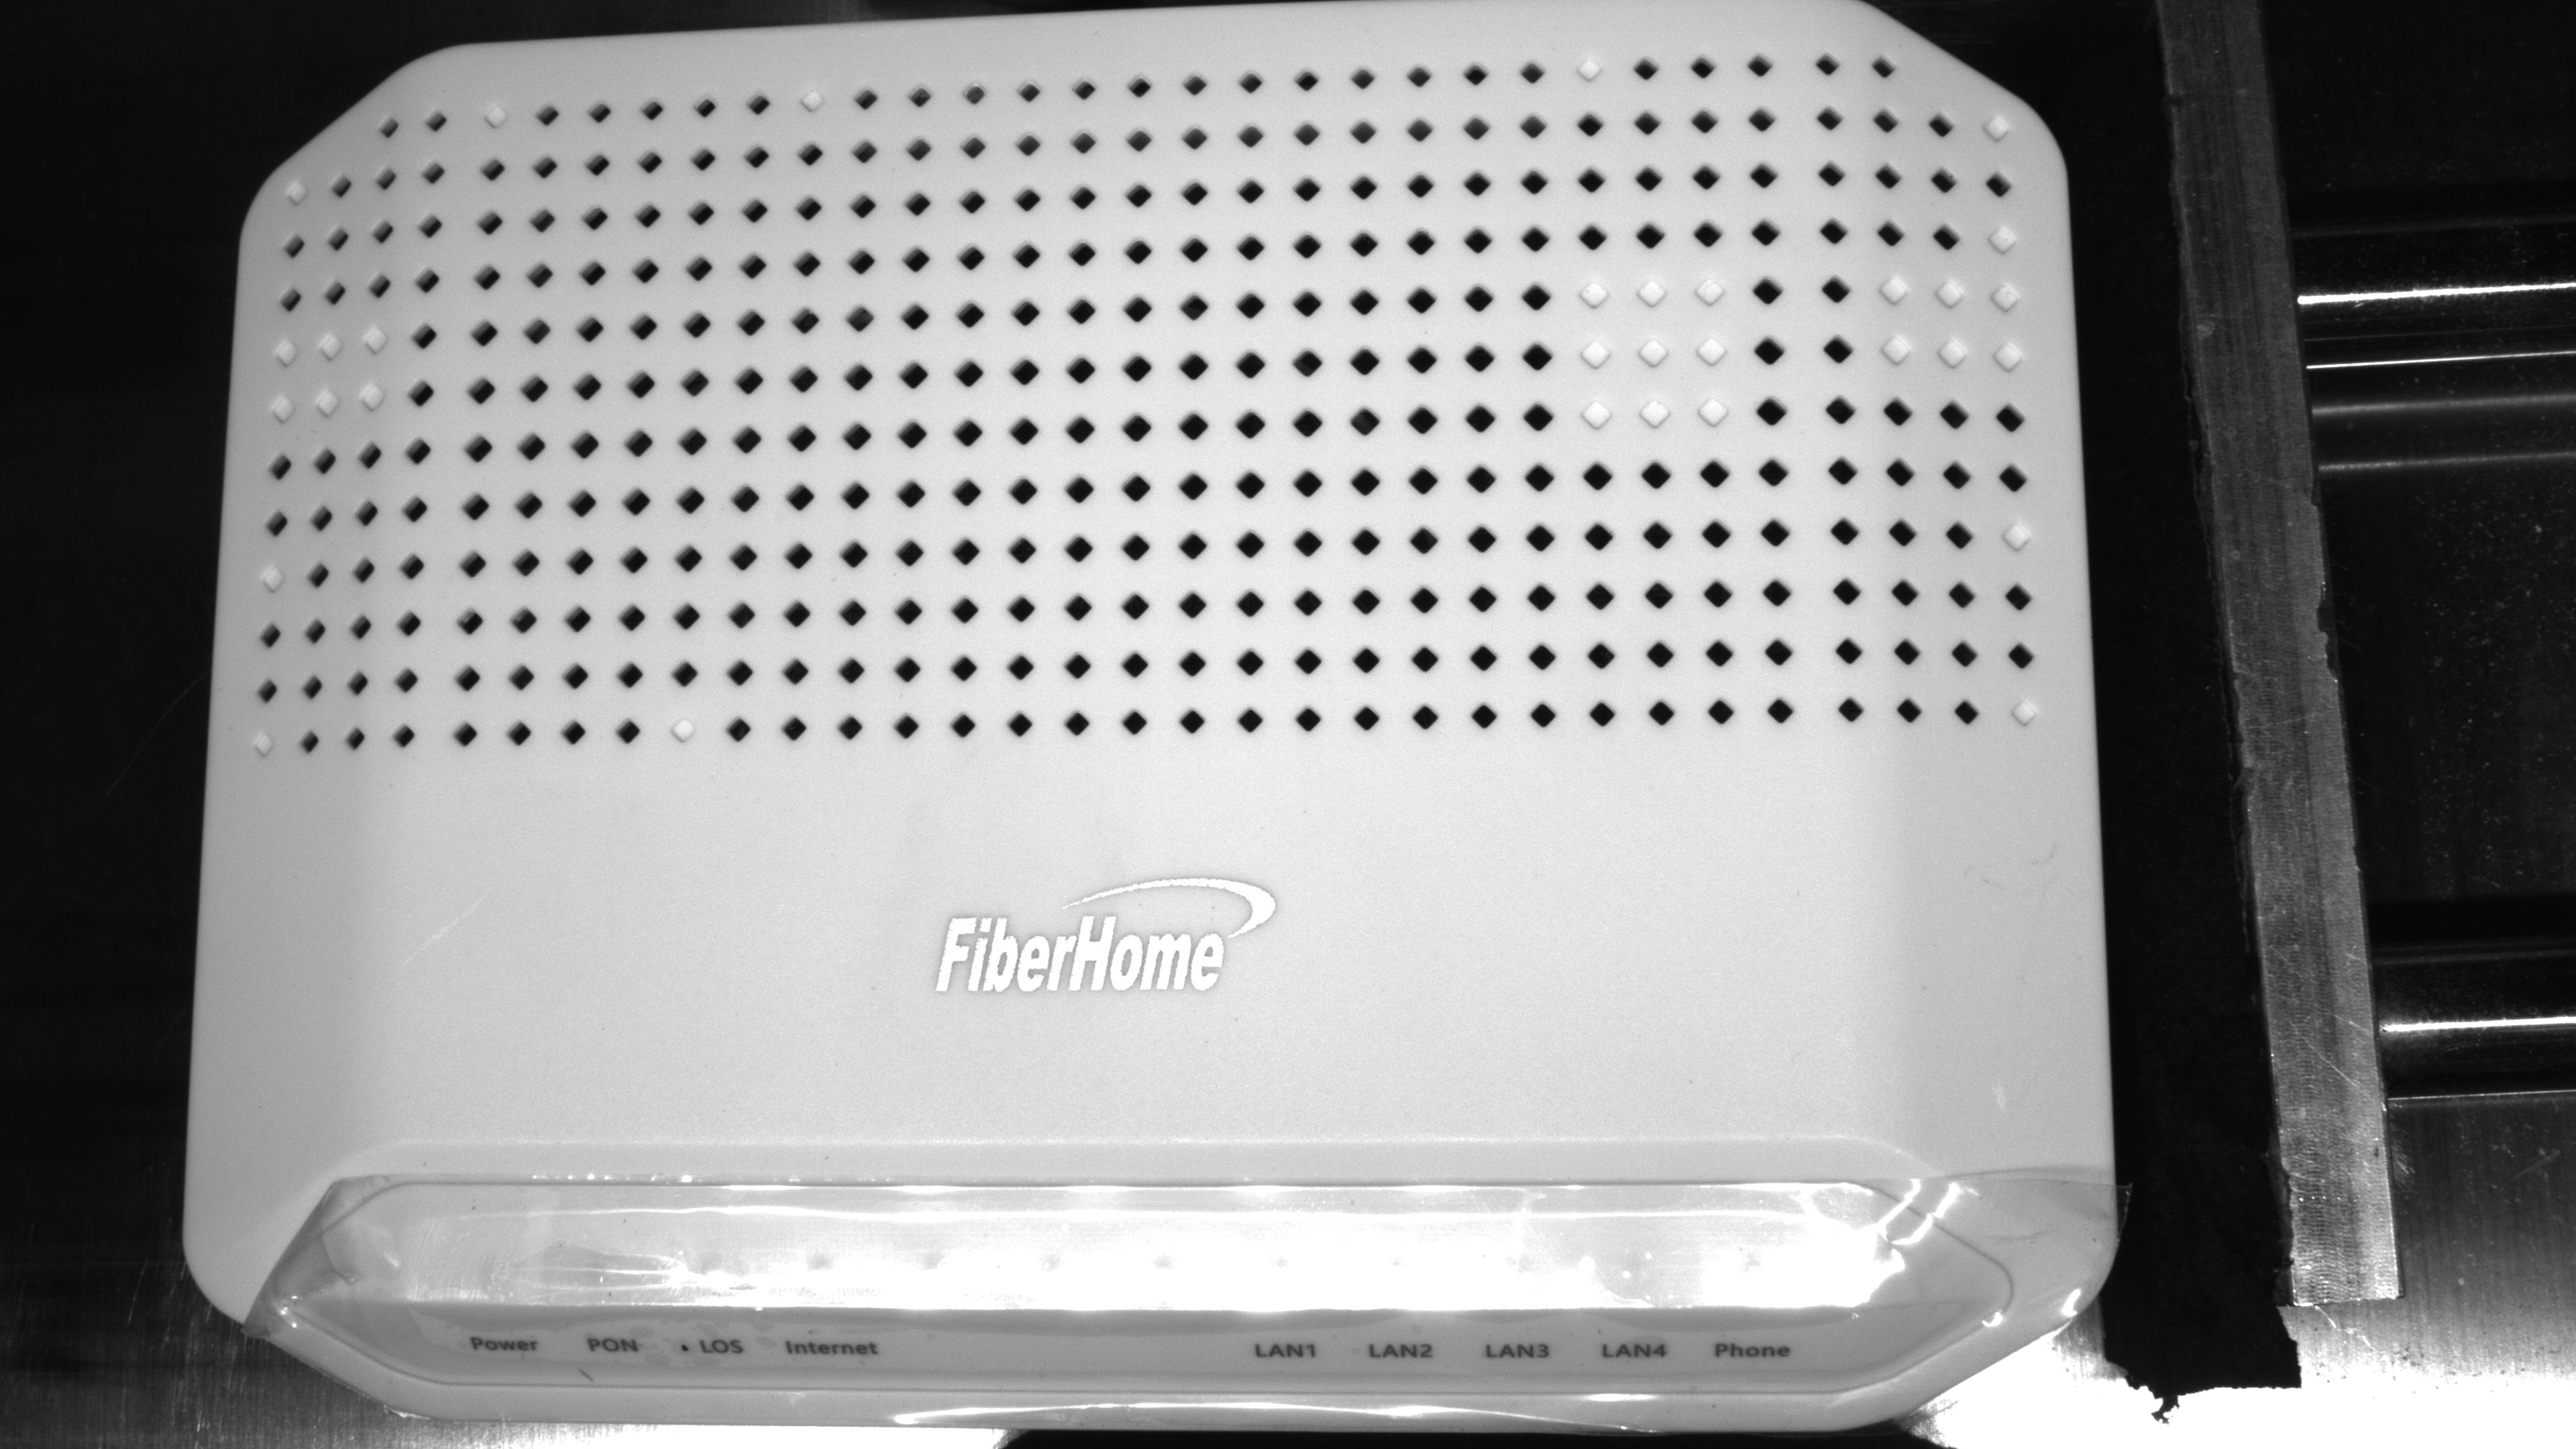AI_FiberHome: (878, 840, 1323, 1056)
